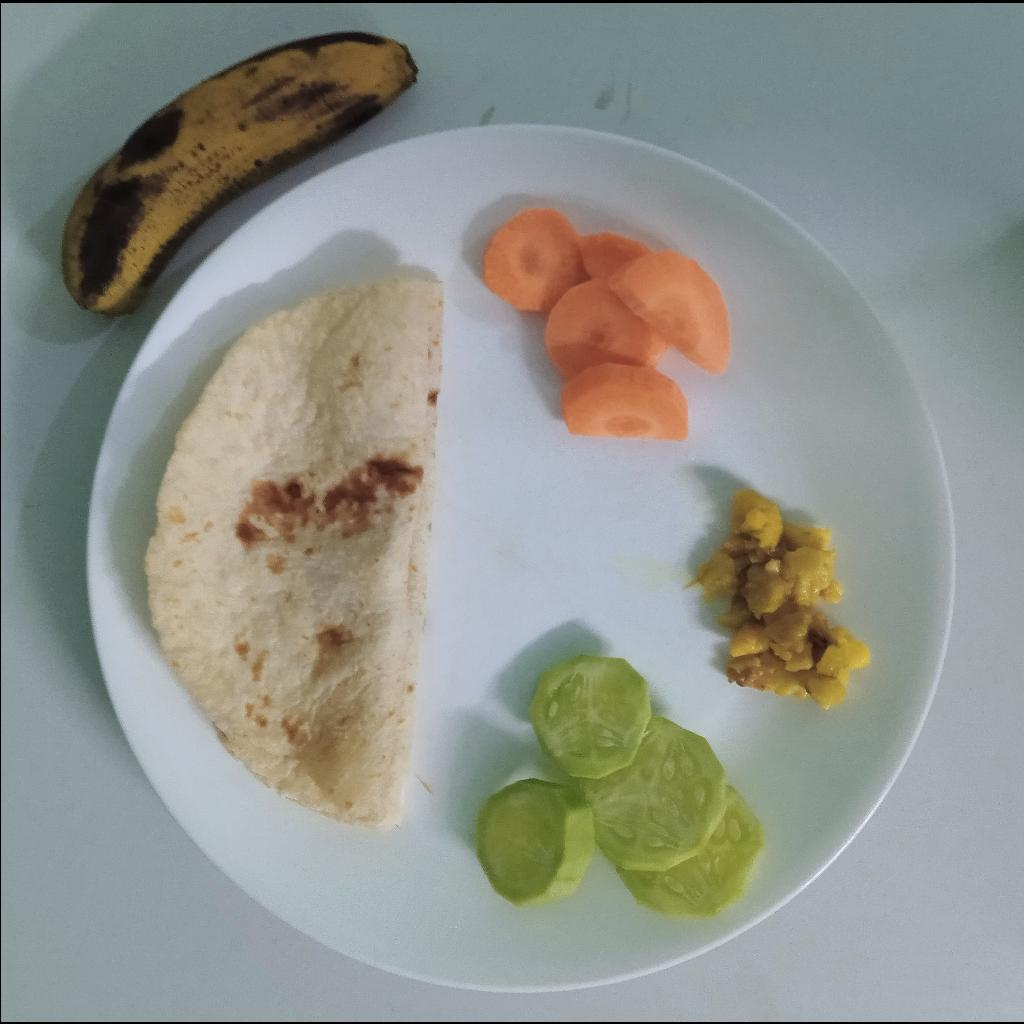banana: (60, 30, 419, 315)
carrot: (483, 208, 731, 441)
cauliflower: (697, 488, 869, 709)
cucumber: (476, 653, 765, 917)
ruti: (144, 275, 444, 830)
